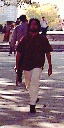person: (18, 20, 48, 103)
